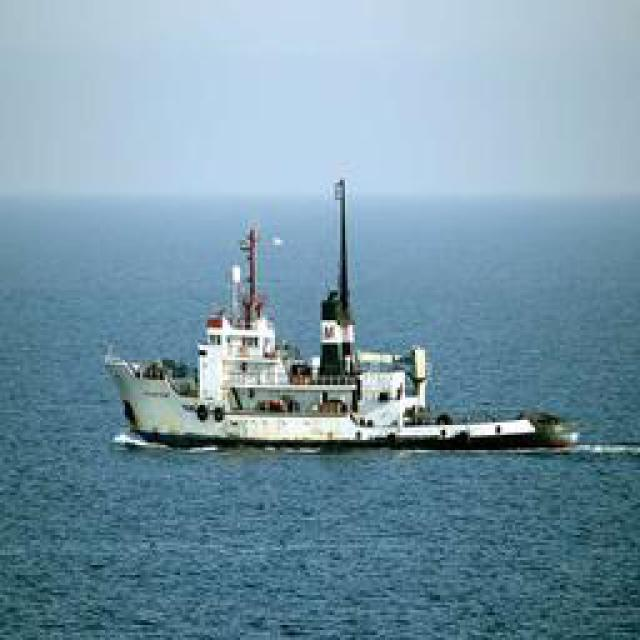Ship: (99, 189, 592, 449)
